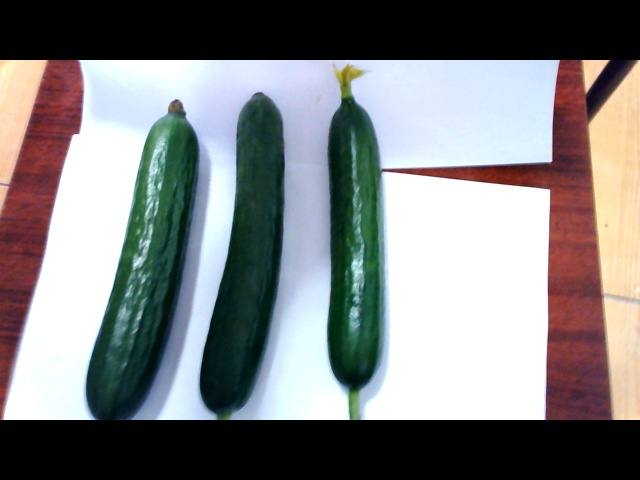cucumber: (88, 106, 199, 420), (313, 74, 410, 412), (196, 92, 290, 417)
